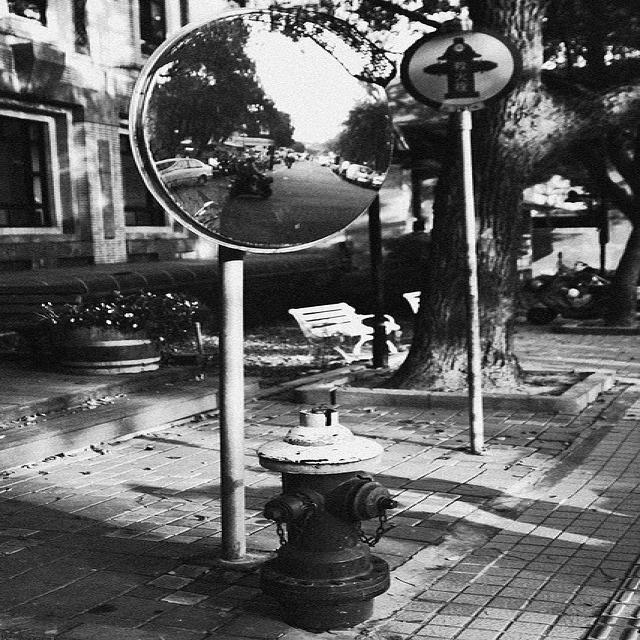fire_hydrant: (256, 407, 402, 633)
